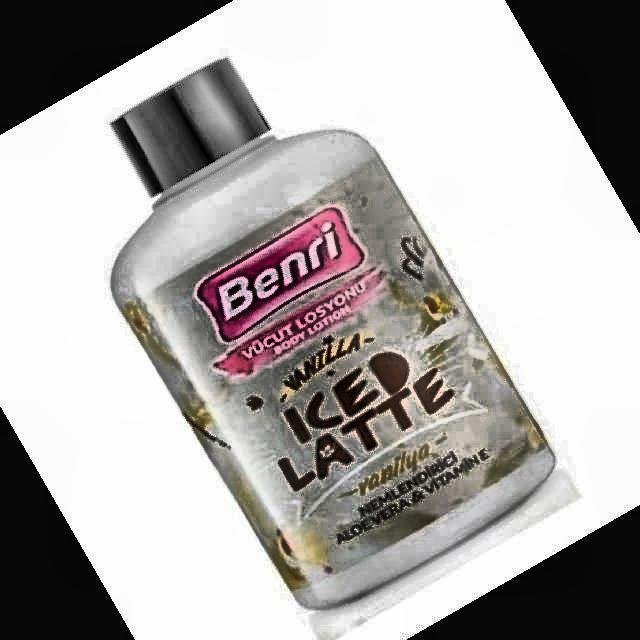plastic: (112, 58, 555, 608)
